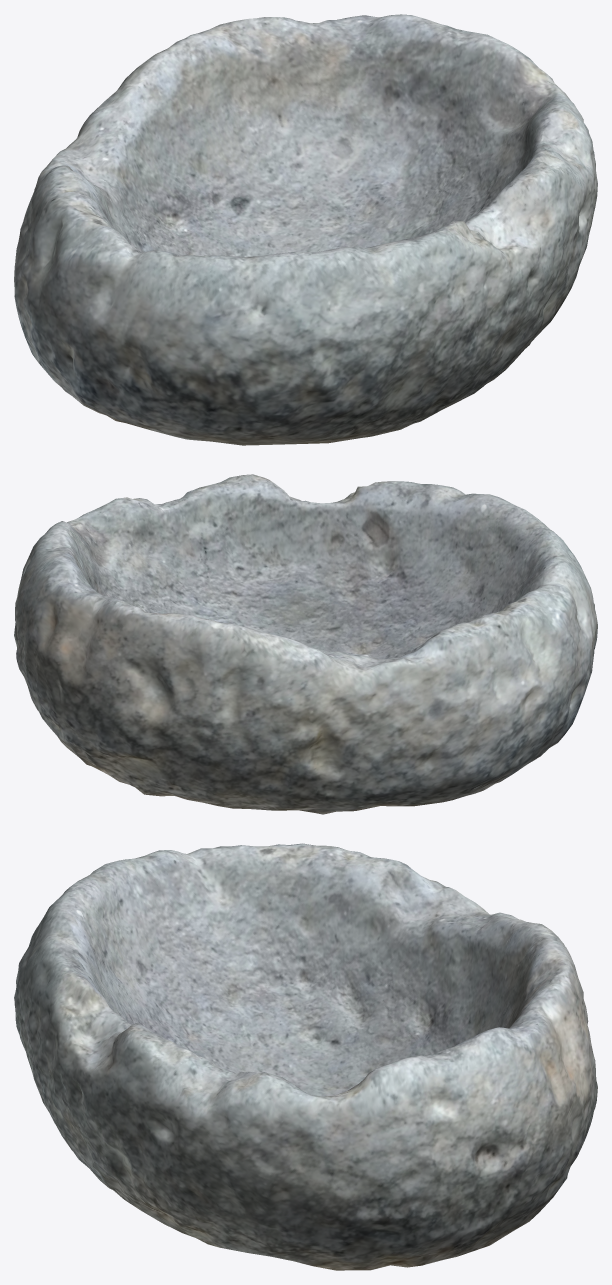
File: PIEZA7.obj
3 renders of one model, top to bottom at view 1: azimuth 30°, elevation 25°; view 2: azimuth 150°, elevation 25°; view 3: azimuth 270°, elevation 25°, orthographic. The views are drawn at different scales.
Visible parts, largest first — view 1: mmGroup0; view 2: mmGroup0; view 3: mmGroup0.
Part boxes in pixels (<box>): mmGroup0: <box>14,14,597,445</box>; mmGroup0: <box>14,474,597,814</box>; mmGroup0: <box>14,843,597,1270</box>.
Bounding box in the file's own units: 0.5131 × 0.2078 × 0.4563.
Materials: 2 (2 with a texture image).
